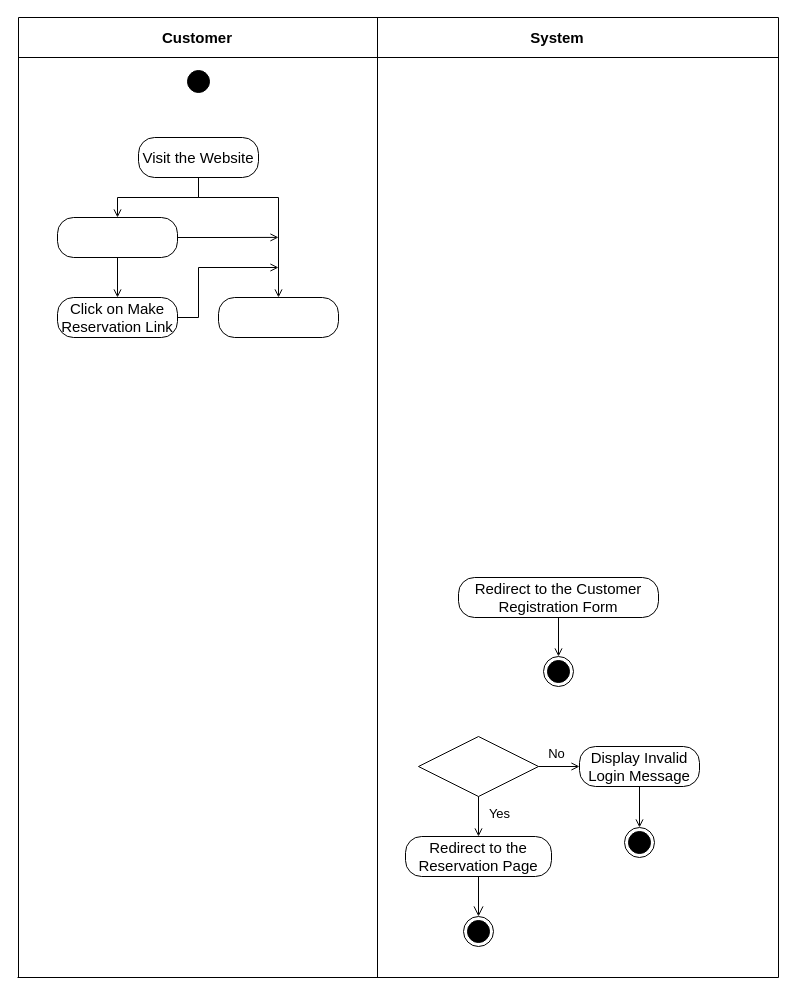
Some shapes in this 797 by 996 pixel diagram are drawn without their labels. Each missing label, with the centre of its shape:
Check Availability: pixel 278 317
Is Authorized?: pixel 478 766
Login to the Customer Profile: pixel 117 237
